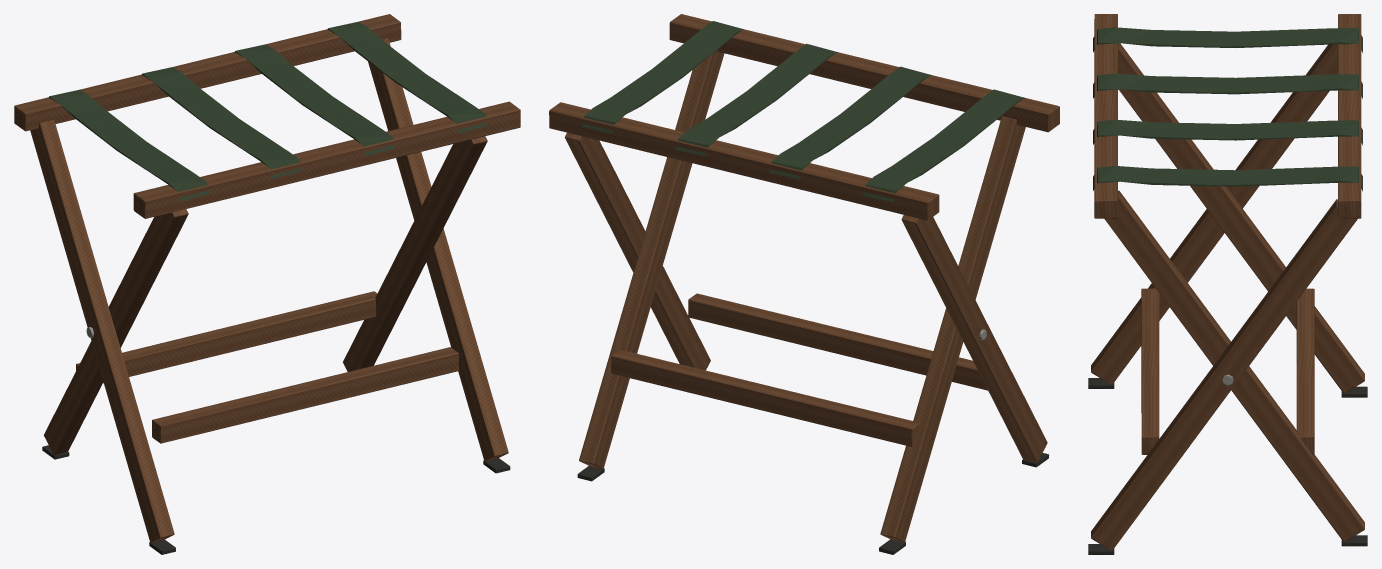
File: mu01_luggage_rack_lod1.glb
3 renders of one model, left to right at view 1: azimuth 30°, elevation 25°; view 2: azimuth 150°, elevation 25°; view 3: azimuth 270°, elevation 25°, orthographic.
Parts seen in each view (by area): view 1: rack_cross_leg_-1_1_LOD1, rack_top_rail_-1_LOD1, rack_cross_leg_1_1_LOD1, rack_lower_stretcher_-1_LOD1, rack_cross_leg_1_-1_LOD1, rack_top_rail_1_LOD1, rack_cross_leg_-1_-1_LOD1, rack_lower_stretcher_1_LOD1, rack_woven_strap_1_LOD1, rack_woven_strap_2_LOD1, rack_woven_strap_3_LOD1, rack_woven_strap_4_LOD1; view 2: rack_cross_leg_-1_-1_LOD1, rack_cross_leg_1_-1_LOD1, rack_top_rail_1_LOD1, rack_lower_stretcher_1_LOD1, rack_cross_leg_-1_1_LOD1, rack_top_rail_-1_LOD1, rack_lower_stretcher_-1_LOD1, rack_cross_leg_1_1_LOD1, rack_woven_strap_3_LOD1, rack_woven_strap_2_LOD1, rack_woven_strap_1_LOD1, rack_woven_strap_4_LOD1; view 3: rack_cross_leg_1_1_LOD1, rack_cross_leg_1_-1_LOD1, rack_cross_leg_-1_-1_LOD1, rack_cross_leg_-1_1_LOD1, rack_woven_strap_2_LOD1, rack_woven_strap_3_LOD1, rack_woven_strap_4_LOD1, rack_woven_strap_1_LOD1, rack_top_rail_-1_LOD1, rack_top_rail_1_LOD1, rack_lower_stretcher_-1_LOD1, rack_lower_stretcher_1_LOD1.
Boxes of the visible parts, <box> form: rack_cross_leg_-1_1_LOD1: <box>30,119,174,542</box>; rack_top_rail_-1_LOD1: <box>133,101,520,218</box>; rack_cross_leg_1_1_LOD1: <box>368,38,508,461</box>; rack_lower_stretcher_-1_LOD1: <box>152,347,458,443</box>; rack_cross_leg_1_-1_LOD1: <box>343,136,487,371</box>; rack_top_rail_1_LOD1: <box>14,14,401,131</box>; rack_cross_leg_-1_-1_LOD1: <box>44,209,188,454</box>; rack_lower_stretcher_1_LOD1: <box>76,291,377,383</box>; rack_woven_strap_1_LOD1: <box>48,90,209,201</box>; rack_woven_strap_2_LOD1: <box>141,67,302,178</box>; rack_woven_strap_3_LOD1: <box>234,44,395,155</box>; rack_woven_strap_4_LOD1: <box>327,22,488,133</box>; rack_cross_leg_-1_-1_LOD1: <box>880,116,1025,542</box>; rack_cross_leg_1_-1_LOD1: <box>579,51,724,469</box>; rack_top_rail_1_LOD1: <box>549,102,939,220</box>; rack_lower_stretcher_1_LOD1: <box>611,350,919,446</box>; rack_cross_leg_-1_1_LOD1: <box>901,215,1047,462</box>; rack_top_rail_-1_LOD1: <box>669,14,1059,132</box>; rack_lower_stretcher_-1_LOD1: <box>688,293,987,390</box>; rack_cross_leg_1_1_LOD1: <box>564,132,710,370</box>; rack_woven_strap_3_LOD1: <box>675,43,837,156</box>; rack_woven_strap_2_LOD1: <box>769,66,931,179</box>; rack_woven_strap_1_LOD1: <box>863,89,1024,202</box>; rack_woven_strap_4_LOD1: <box>582,21,743,133</box>; rack_cross_leg_1_1_LOD1: <box>1091,199,1357,550</box>; rack_cross_leg_1_-1_LOD1: <box>1104,190,1364,542</box>; rack_cross_leg_-1_-1_LOD1: <box>1118,43,1364,393</box>; rack_cross_leg_-1_1_LOD1: <box>1091,44,1337,384</box>; rack_woven_strap_2_LOD1: <box>1093,73,1362,98</box>; rack_woven_strap_3_LOD1: <box>1093,119,1362,145</box>; rack_woven_strap_4_LOD1: <box>1093,166,1362,191</box>; rack_woven_strap_1_LOD1: <box>1093,27,1362,52</box>; rack_top_rail_-1_LOD1: <box>1094,14,1117,218</box>; rack_top_rail_1_LOD1: <box>1338,14,1361,218</box>; rack_lower_stretcher_-1_LOD1: <box>1141,288,1159,454</box>; rack_lower_stretcher_1_LOD1: <box>1296,288,1314,454</box>.
Bounding box in the file's own units: 0.5585 × 0.508 × 0.353.
Materials: 4 (4 with a texture image).
